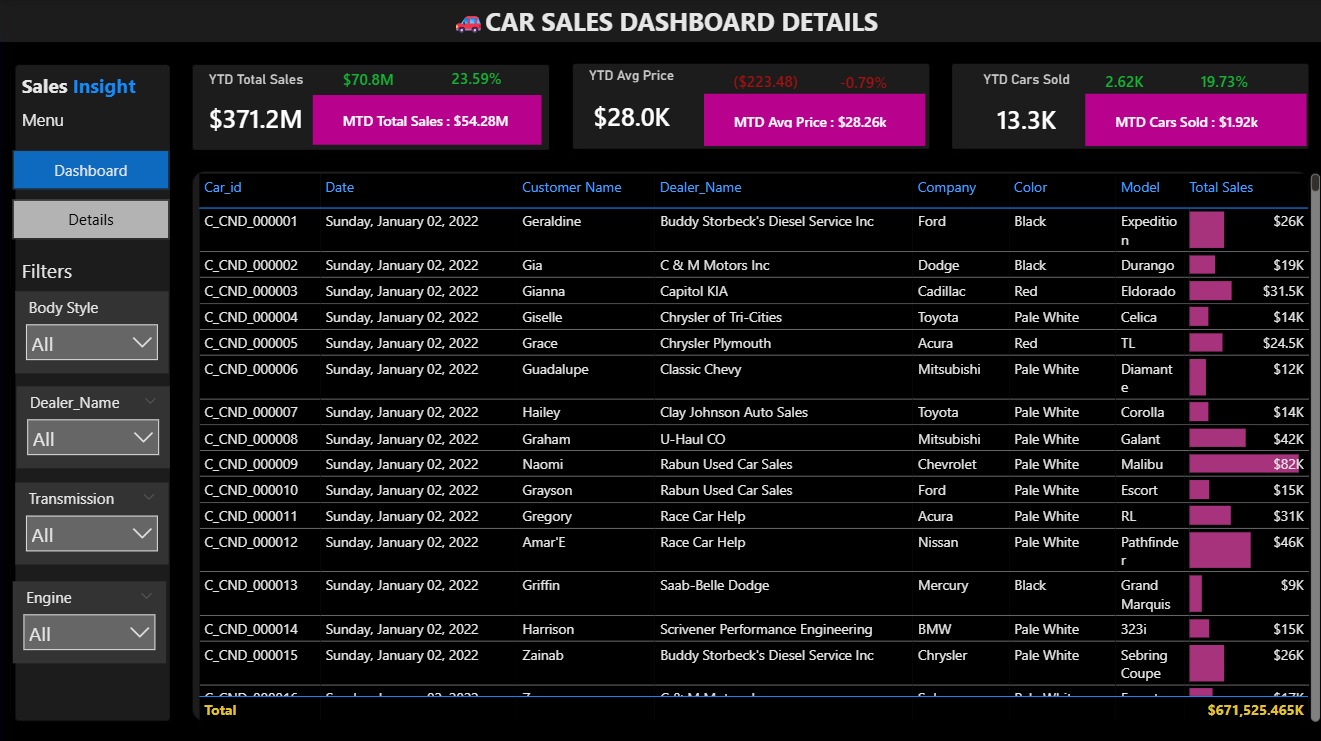

The page's visual inventory and layout, read from the dashboard file:
{"tool":"powerbi","page":{"name":"Details","canvas":[1280,720],"ordinal":1},"visuals":[{"type":"cardVisual","title":"YTD  Total Sales","fields":{"Data":["car_data.YTD Total Sales"]},"box":[164.6,68.9,168,75.6],"z":0},{"type":"cardVisual","fields":{"Data":["car_data.Sales Difference"]},"box":[303.3,46.7,117.8,57.8],"z":1000},{"type":"cardVisual","fields":{"Data":["car_data.YoY Sales Growth"]},"box":[407.8,42.2,132.2,65.6],"z":2000},{"type":"cardVisual","fields":{"Data":["car_data.MTD KPI"]},"box":[303.3,92.2,221.1,47.8],"z":3000},{"type":"cardVisual","title":"YTD Avg Price","fields":{"Data":["car_data.YTD Avg Price"]},"box":[540,65,140,76.7],"z":4000},{"type":"cardVisual","fields":{"Data":["car_data.Avg Price Diff"]},"box":[671.7,48.3,136.7,58.3],"z":5000},{"type":"cardVisual","fields":{"Data":["car_data.YoY Avg Price Growth"]},"box":[758.3,38.3,151.7,78.3],"z":6000},{"type":"cardVisual","fields":{"Data":["car_data.MTD Avg Price KPI"]},"box":[680,90,213.3,50],"z":7000},{"type":"cardVisual","title":"YTD Cars Sold","fields":{"Data":["car_data.YTD Cars Sold"]},"box":[921.7,68.3,140,76.7],"z":8000},{"type":"cardVisual","fields":{"Data":["car_data.Cars Sold Diff"]},"box":[1018.3,48.3,136.7,58.3],"z":9000},{"type":"cardVisual","fields":{"Data":["car_data.YoY Car Sold Growth"]},"box":[1115,48.3,136.7,58.3],"z":10000},{"type":"cardVisual","fields":{"Data":["car_data.MTD Cars  Sold KPI"]},"box":[1048.3,90,213.3,50],"z":11000},{"type":"textbox","box":[362.8,0,806.3,65.5],"z":12000},{"type":"slicer","fields":{"Values":["car_data.Body Style"]},"box":[15.1,280.5,147.8,79],"z":13000},{"type":"slicer","fields":{"Values":["car_data.Dealer_Name"]},"box":[16.8,372.9,147.8,79],"z":14000},{"type":"slicer","fields":{"Values":["car_data.Transmission"]},"box":[15.1,465.3,147.8,79],"z":15000},{"type":"slicer","fields":{"Values":["car_data.Engine"]},"box":[13.4,561,147.8,79],"z":16000},{"type":"textbox","box":[16.8,243.6,147.8,37],"z":17000},{"type":"tableEx","fields":{"Values":["car_data.Car_id","car_data.Date","car_data.Customer Name","car_data.Dealer_Name","car_data.Company","car_data.Color","car_data.Model","car_data.Total Sales"]},"box":[187.2,162.7,1093,538.6],"z":18000},{"type":"textbox","box":[16.8,65.5,147.8,42],"z":19000},{"type":"textbox","box":[16.8,99.1,73.9,31.9],"z":20000},{"type":"pageNavigator","box":[13.4,144.5,151.2,87.3],"z":21000}]}

Visuals, with their boxes in screenshot pixels (x1, y1, x2, y2), scaled from the page's 1280x720 canvas onto the 1321x741 screenshot:
"YTD  Total Sales" cardVisual: <box>170,71,343,149</box>
cardVisual - car_data.Sales Difference: <box>313,48,435,108</box>
cardVisual - car_data.YoY Sales Growth: <box>421,43,557,111</box>
cardVisual - car_data.MTD KPI: <box>313,95,541,144</box>
"YTD Avg Price" cardVisual: <box>557,67,702,146</box>
cardVisual - car_data.Avg Price Diff: <box>693,50,834,110</box>
cardVisual - car_data.YoY Avg Price Growth: <box>783,39,939,120</box>
cardVisual - car_data.MTD Avg Price KPI: <box>702,93,922,144</box>
"YTD Cars Sold" cardVisual: <box>951,70,1096,149</box>
cardVisual - car_data.Cars Sold Diff: <box>1051,50,1192,110</box>
cardVisual - car_data.YoY Car Sold Growth: <box>1151,50,1292,110</box>
cardVisual - car_data.MTD Cars  Sold KPI: <box>1082,93,1302,144</box>
textbox: <box>374,0,1207,67</box>
slicer - car_data.Body Style: <box>16,289,168,370</box>
slicer - car_data.Dealer_Name: <box>17,384,170,465</box>
slicer - car_data.Transmission: <box>16,479,168,560</box>
slicer - car_data.Engine: <box>14,577,166,659</box>
textbox: <box>17,251,170,289</box>
tableEx - car_data.Car_id x car_data.Date: <box>193,167,1320,722</box>
textbox: <box>17,67,170,111</box>
textbox: <box>17,102,94,135</box>
pageNavigator: <box>14,149,170,239</box>
